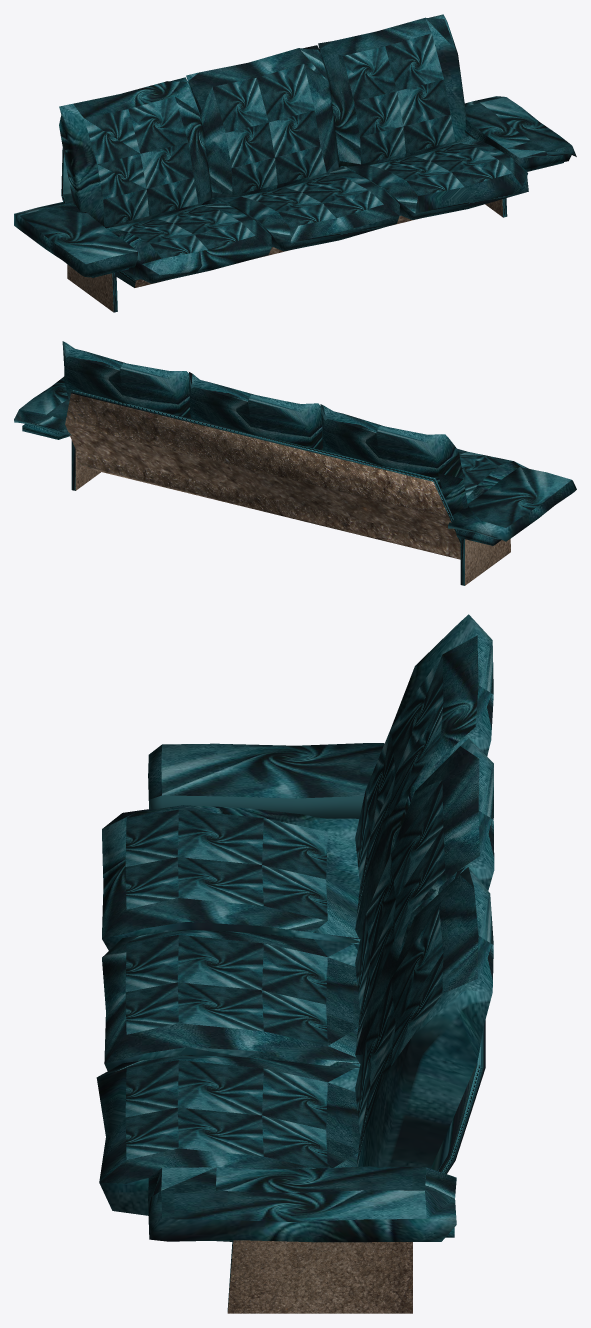
Rendered from sofa8.glb.
3 views of the same model, one above another, from view 1: azimuth 30°, elevation 25°; view 2: azimuth 150°, elevation 25°; view 3: azimuth 270°, elevation 25° (orthographic). The views are drawn at different scales.
Parts seen in each view (by area): view 1: sofa3; view 2: sofa3; view 3: sofa3.
Boxes of the visible parts, box(x1,y1,x2,y2) form: sofa3: box(14, 14, 576, 312); sofa3: box(14, 341, 576, 585); sofa3: box(96, 614, 494, 1313).
Bounding box in the file's own units: 1.55 × 0.4845 × 0.5437.
Materials: 2 (2 with a texture image).
